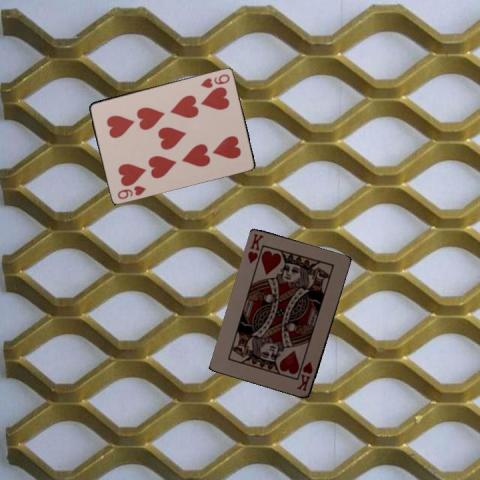9h: (198, 71, 232, 89), (115, 183, 147, 200)
Kh: (245, 231, 265, 265), (294, 359, 314, 392)
